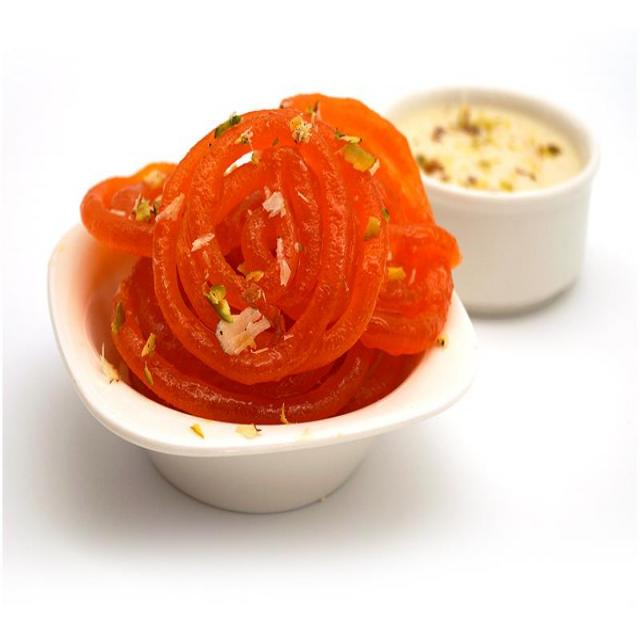jalebi: (91, 111, 461, 410)
